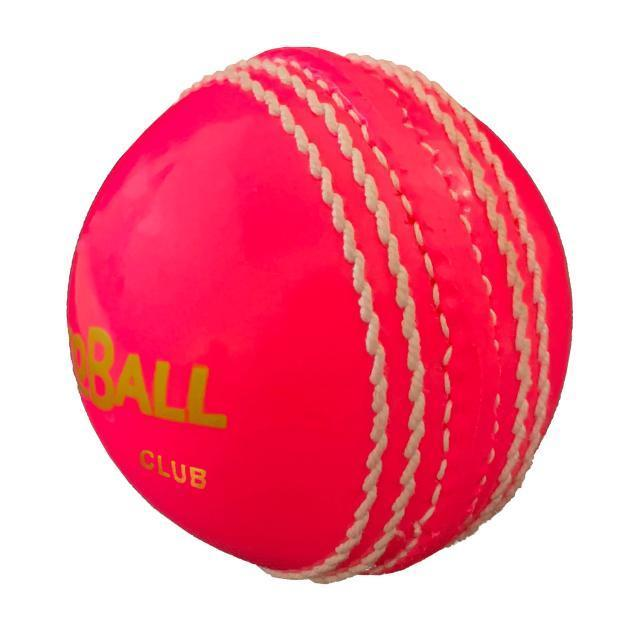cricket ball: (66, 45, 573, 586)
